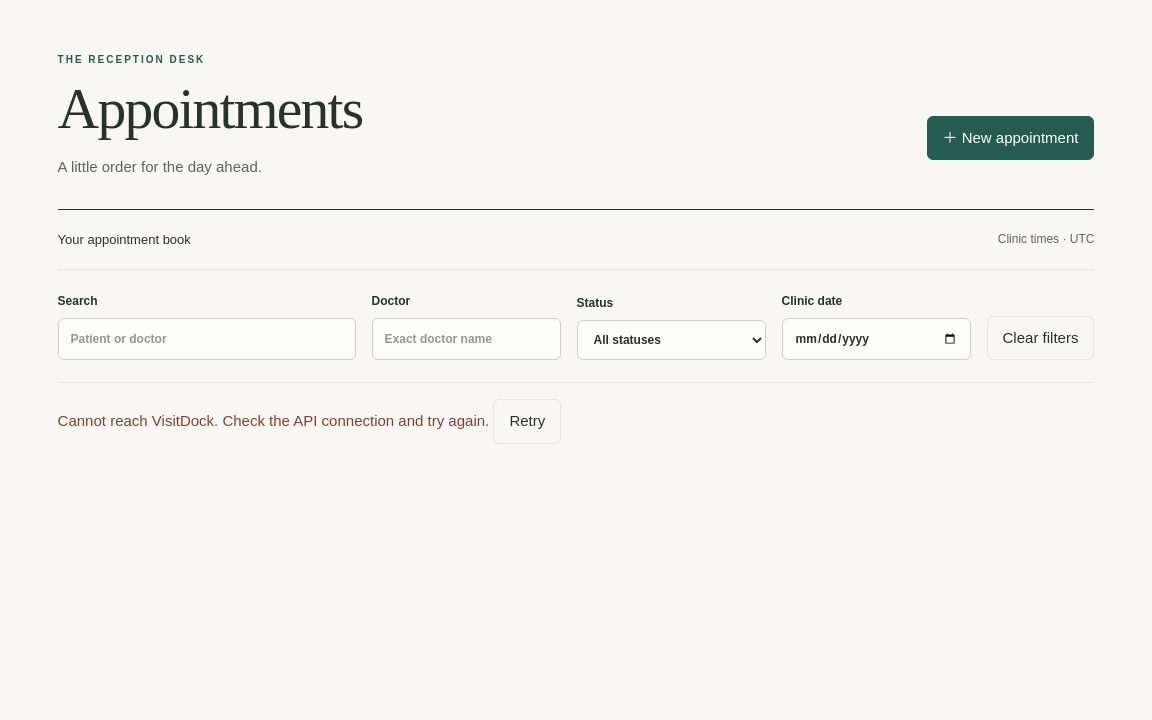
Test: shows API error and supports retry
Expected: the message "Cannot reach VisitDock. Check the API connection and try again. Retry" is shown, [58,399,561,444]
What coordinates should you click on to do the following:
click the button "Retry"
I would click on:
 (527, 422)
Its box is [493,399,561,444].
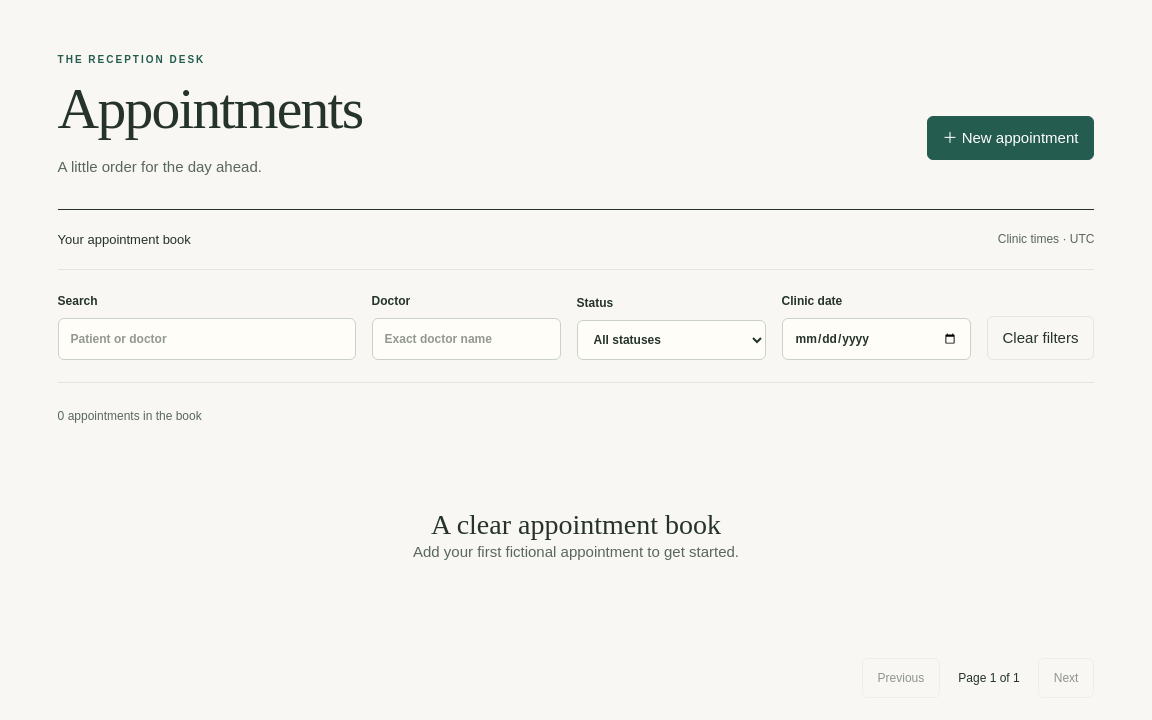
Result: the heading "A clear appointment book" is shown at [431,509,721,540]
